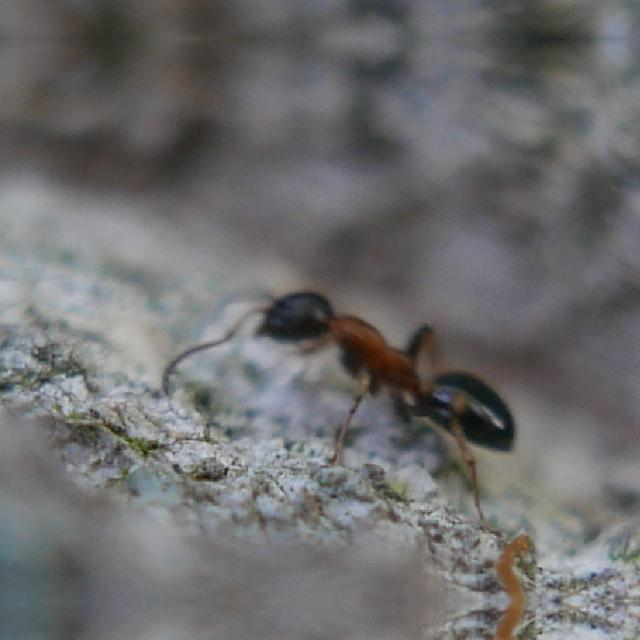Dolichoderus: (216, 247, 566, 489)
